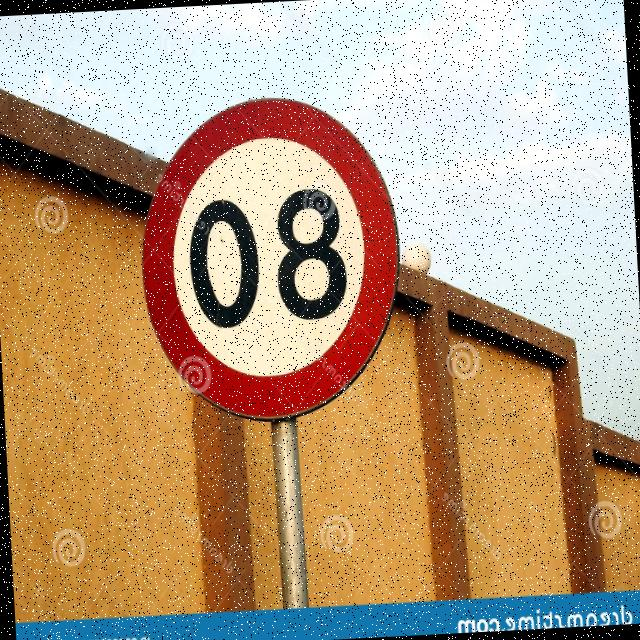speed_limit_80: (121, 82, 428, 444)
